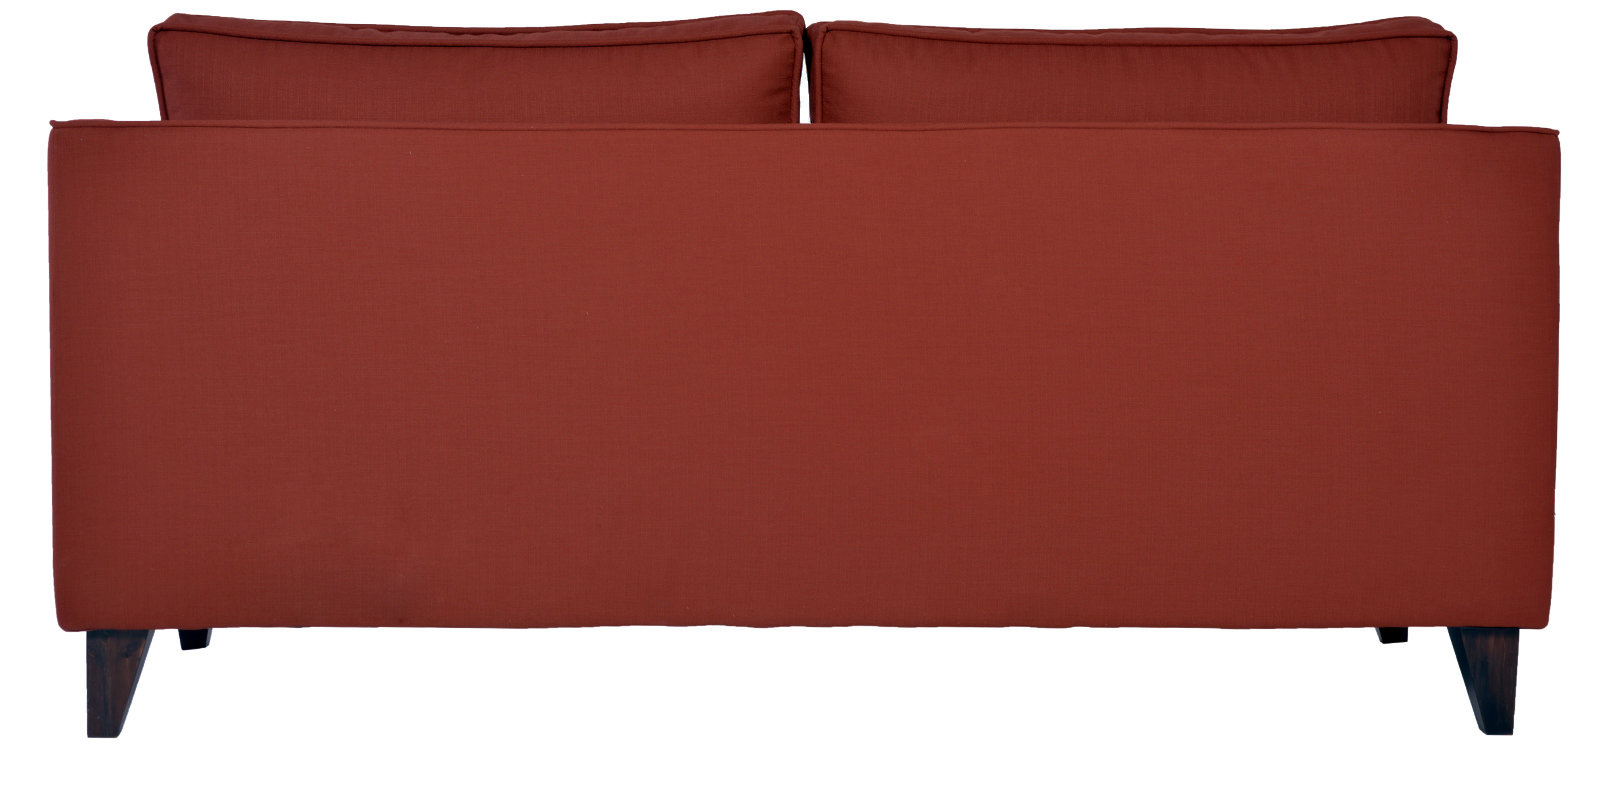Ithaca Impulse Three Seater Sofa with Throw Cushions in Burnt Sienna Colour by U: (13, 6, 1561, 784)
